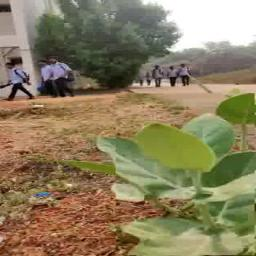Calotropis: (116, 93, 255, 256)
